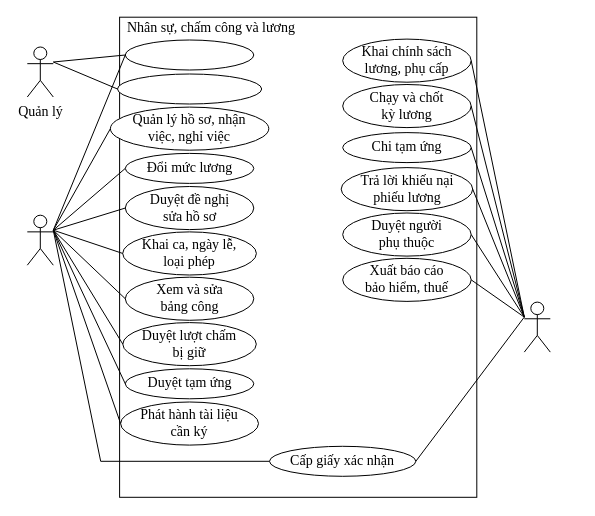
Some shapes in this 595 by 516 pixel diagram are drawn without their labels. The box of each missing label's shape, as (x1, y1, x2, y2) in pixels:
Duyệt đơn: (124, 39, 254, 70)
Kế toán lương: (523, 301, 550, 352)
Nhân sự: (26, 214, 53, 265)
Xem công của đội: (116, 73, 262, 104)
